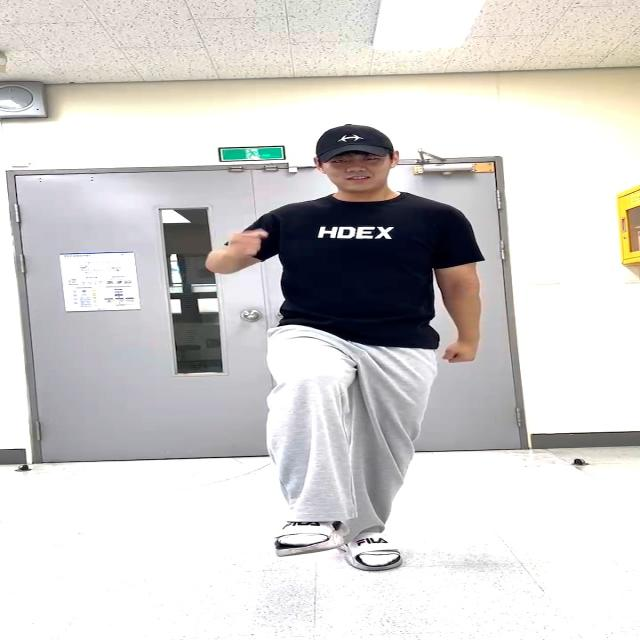leg: (259, 334, 342, 547)
